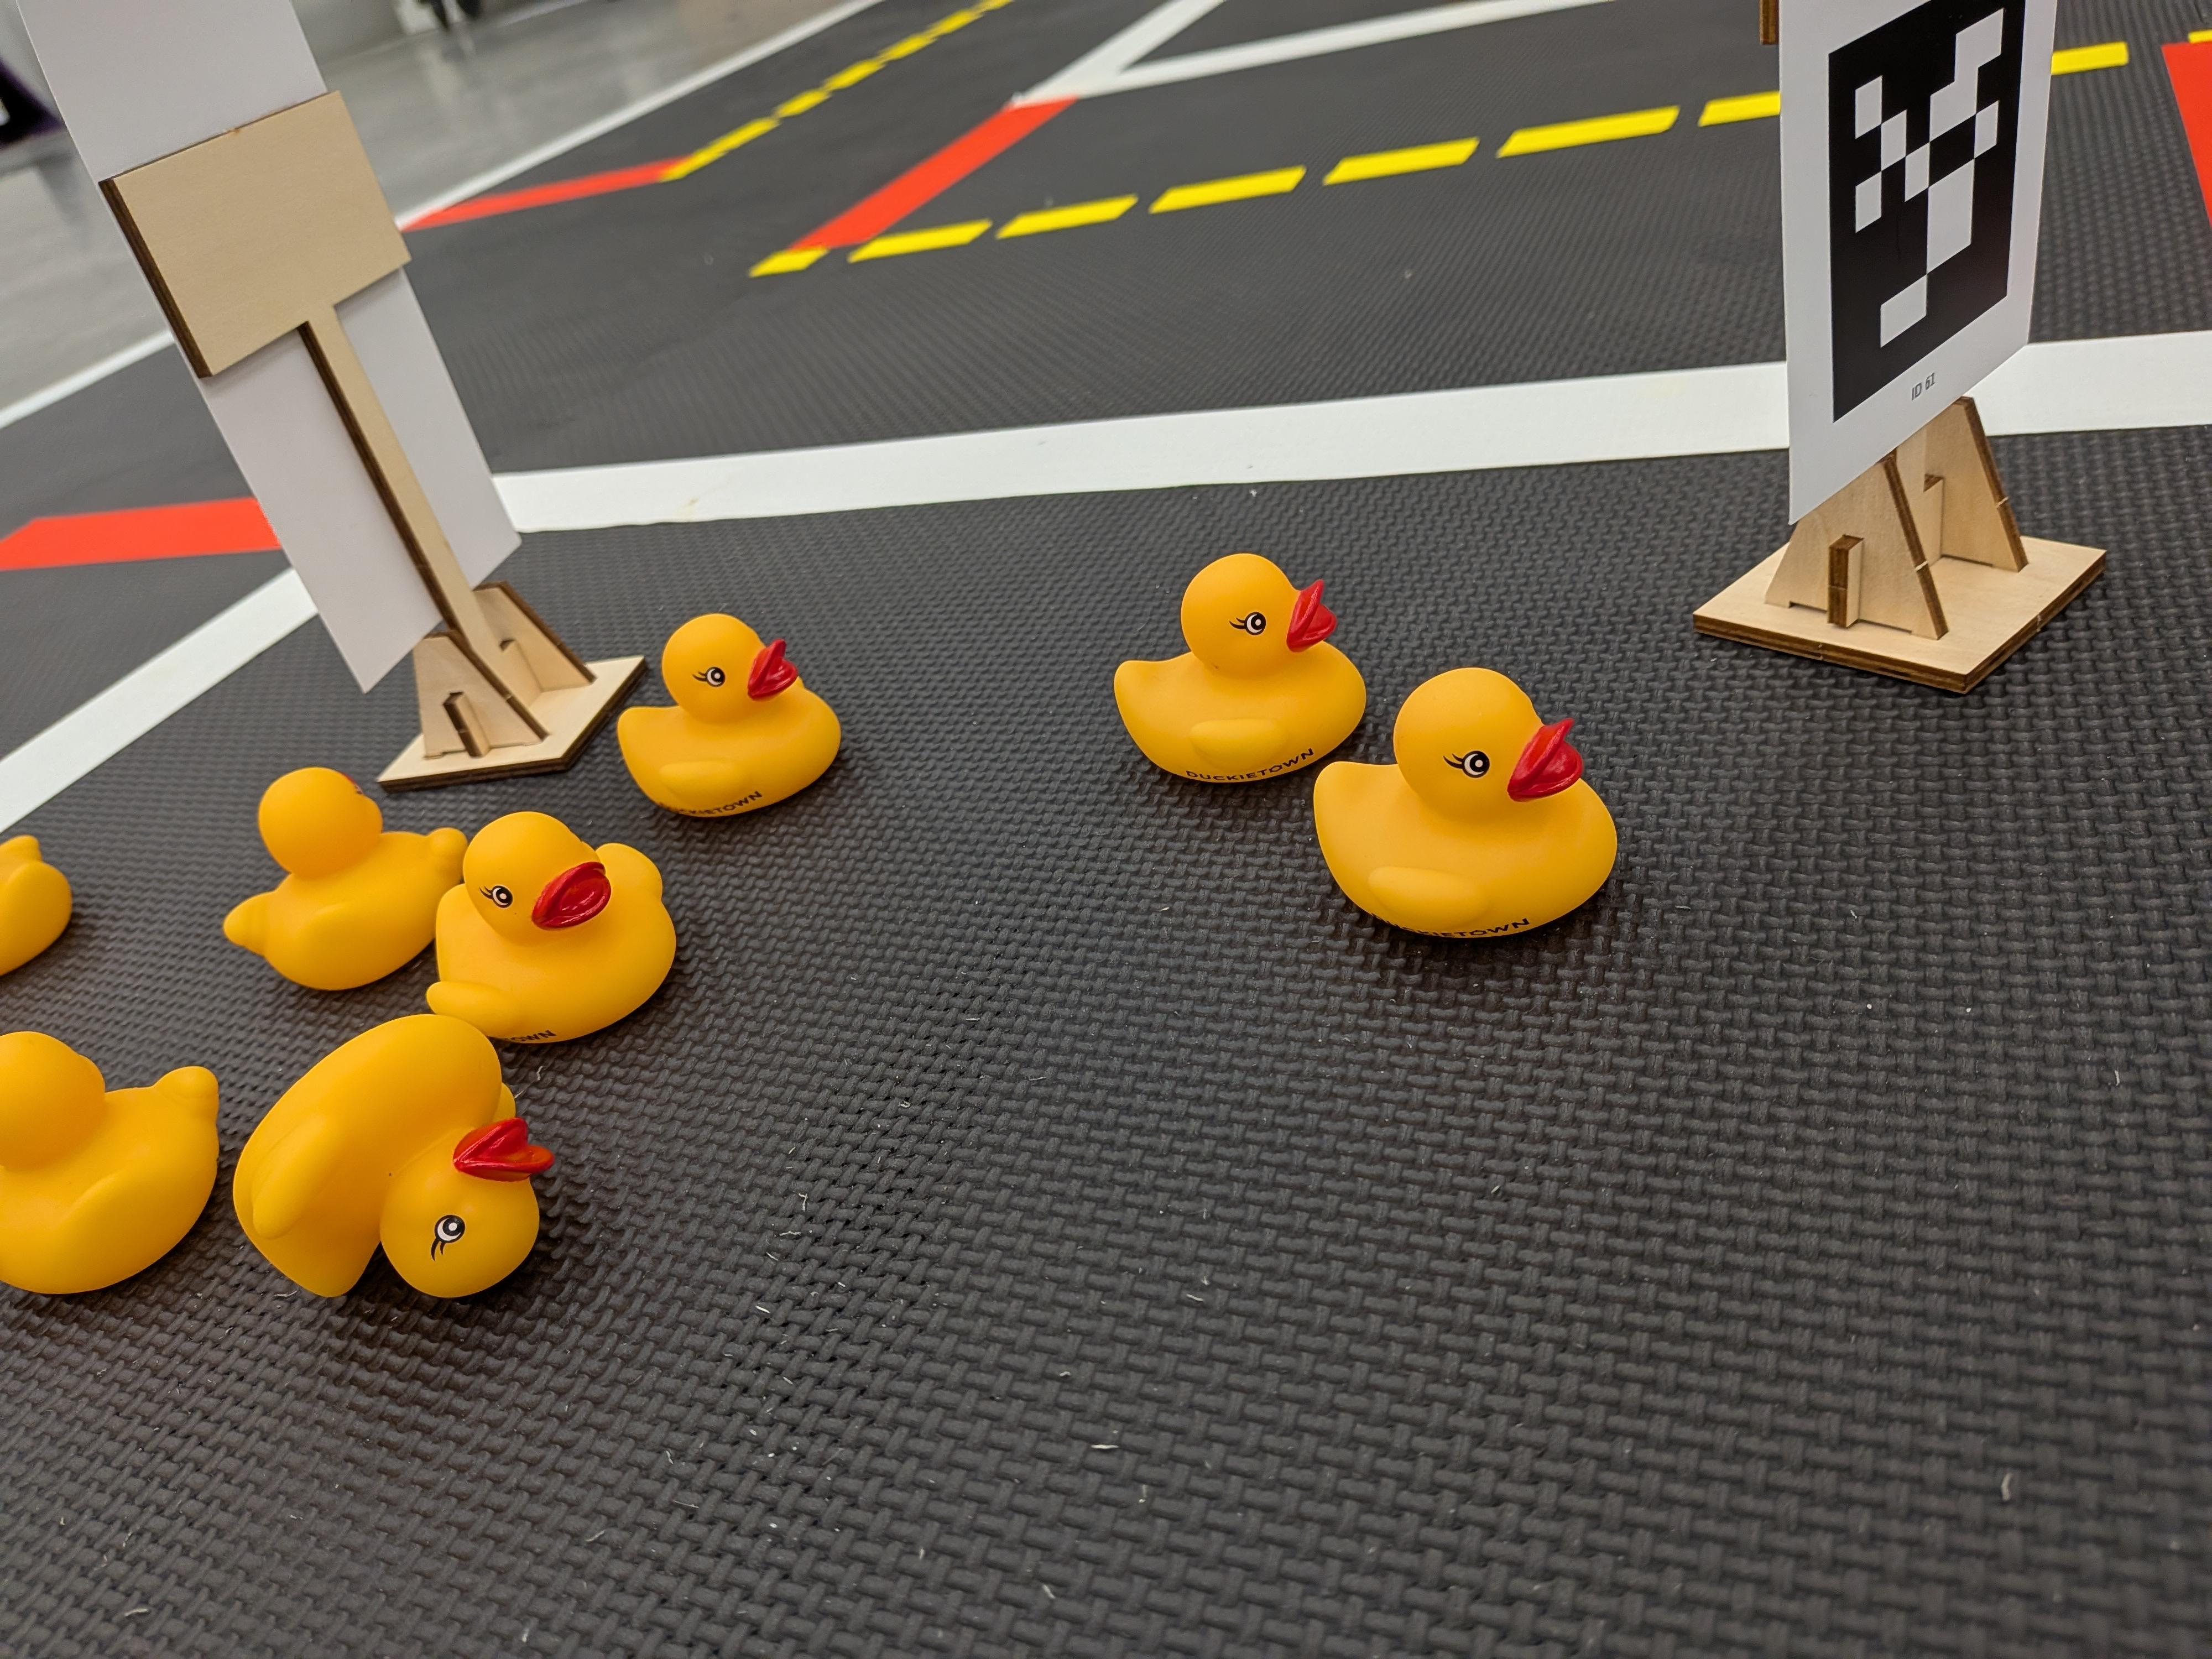peasant: (230, 1014, 547, 1312), (1306, 666, 1620, 950), (1108, 542, 1367, 789), (430, 803, 681, 1054), (0, 1033, 223, 1307), (219, 760, 469, 993), (622, 605, 841, 831), (0, 831, 80, 1004)
stopbar: (775, 96, 1075, 256), (5, 483, 277, 575), (408, 159, 685, 237), (2158, 35, 2212, 246)
whiteline: (2, 0, 876, 434), (423, 329, 2212, 535), (0, 453, 423, 838), (1012, 0, 1592, 110), (1014, 0, 1230, 113)
yellowline: (745, 26, 2212, 284), (664, 0, 1005, 183)
